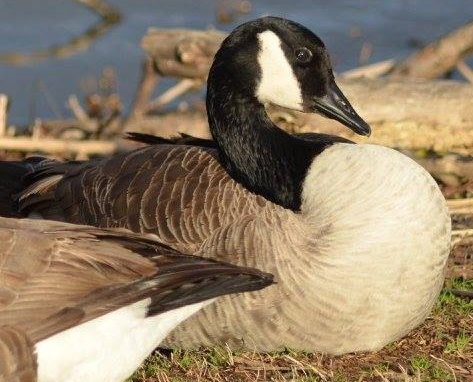goose: (4, 13, 458, 363)
